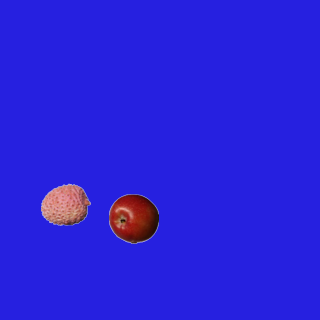Apple Braeburn: (108, 193, 158, 243)
Lychee: (40, 179, 90, 229)
